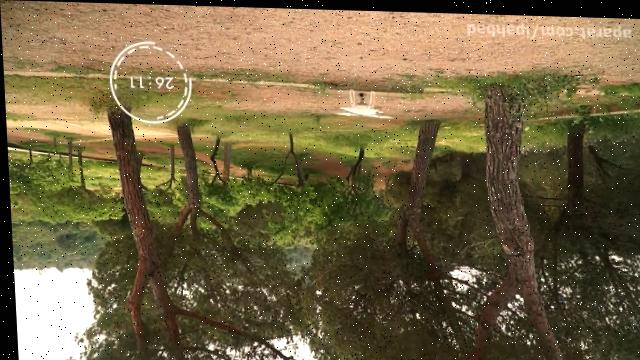drone: (330, 86, 394, 119)
